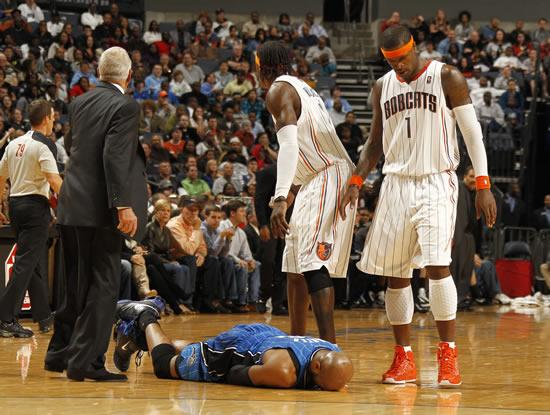down: (94, 291, 357, 396)
up: (345, 23, 495, 388), (251, 41, 363, 345), (47, 49, 139, 380), (1, 95, 68, 341)
